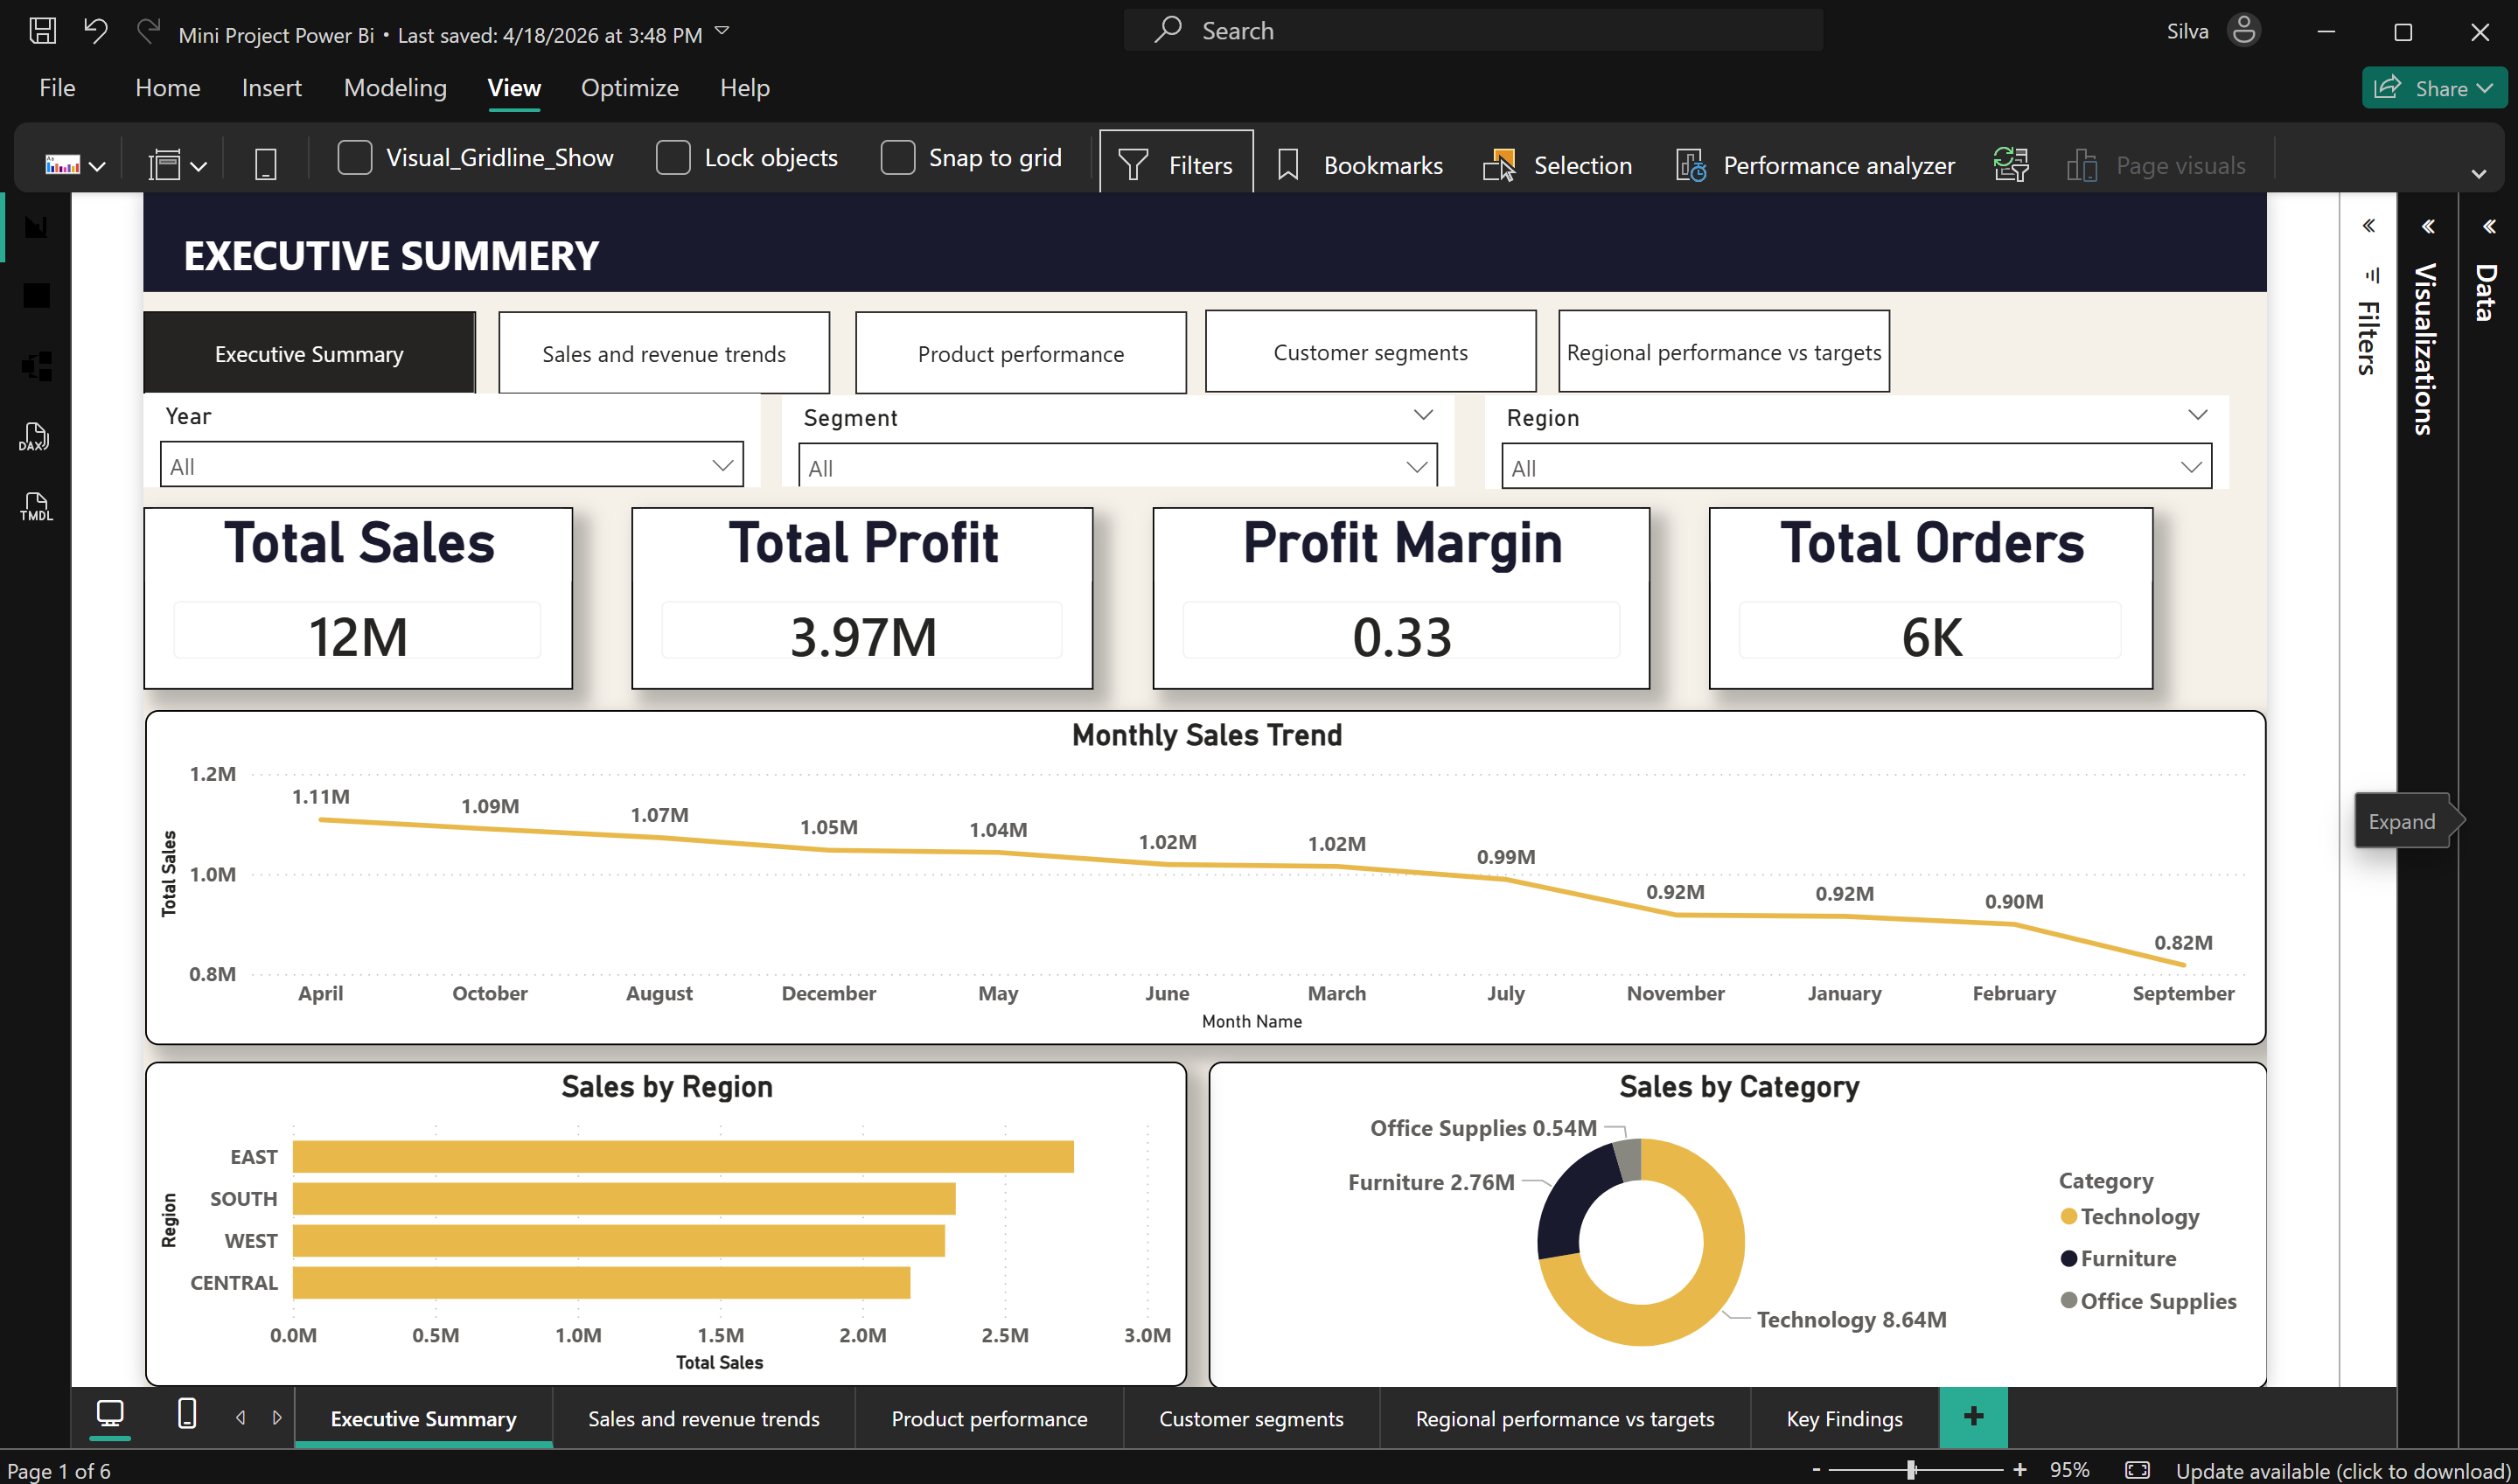

This screenshot's page, from the dashboard's own definition file:
{"tool":"powerbi","page":{"name":"Executive Summary","canvas":[1280,720],"ordinal":0},"visuals":[{"type":"shape","box":[0,0,1280,60],"z":0},{"type":"textbox","box":[0,15.3,298.6,56.7],"z":1000},{"type":"pageNavigator","box":[0,72,200.6,50.5],"z":2000},{"type":"pageNavigator","box":[214.4,72,200.6,50.5],"z":3000},{"type":"pageNavigator","box":[428.7,72,200.6,50.5],"z":4000},{"type":"pageNavigator","box":[640,70.4,200.6,50.5],"z":5000},{"type":"pageNavigator","box":[852.8,70.4,200.6,50.5],"z":6000},{"type":"slicer","fields":{"Values":["Date Table.Year"]},"box":[0,121,372.1,56.7],"z":7000},{"type":"slicer","fields":{"Values":["Customers.Segment"]},"box":[384.3,122.5,405.7,55.1],"z":8000},{"type":"slicer","fields":{"Values":["Customers.Region"]},"box":[808.4,122.5,448.6,56.7],"z":9000},{"type":"cardVisual","title":"Total Sales","fields":{"Data":["Key Measures.Total Sales"]},"box":[0,189.9,258.8,110.2],"z":10000},{"type":"cardVisual","title":"Total Profit","fields":{"Data":["Key Measures.Total Profit"]},"box":[294,189.9,278.7,110.2],"z":11000},{"type":"cardVisual","title":"Total Orders","fields":{"Data":["Key Measures.Total Orders"]},"box":[943.2,189.9,267.9,110.2],"z":12000},{"type":"cardVisual","title":"Profit Margin","fields":{"Data":["Key Measures.Profit Margin %"]},"box":[607.8,189.9,300.1,110.2],"z":13000},{"type":"lineChart","title":"Monthly Sales Trend","fields":{"Category":["Date Table.Year","Date Table.Month Name"],"Y":["Key Measures.Total Sales"]},"box":[1.5,312.3,1278.5,202.1],"z":14000},{"type":"donutChart","title":"Sales by Category","fields":{"Y":["Key Measures.Total Sales"],"Category":["Products.Category"]},"box":[641.5,523.6,638.5,197.5],"z":15000},{"type":"clusteredBarChart","title":" Sales by Region","fields":{"Category":["Customers.Region"],"Y":["Key Measures.Total Sales"]},"box":[1.5,523.6,627.8,196],"z":16000}]}

Visuals, with their boxes on the page's 1280x720 design canvas (x1, y1, x2, y2). These are canvas units, not pixel positions in the 2518x1484 screenshot, which may show the page scaled, cropped or inside an application window:
shape: (x1=0, y1=0, x2=1280, y2=60)
textbox: (x1=0, y1=15, x2=299, y2=72)
pageNavigator: (x1=0, y1=72, x2=201, y2=122)
pageNavigator: (x1=214, y1=72, x2=415, y2=122)
pageNavigator: (x1=429, y1=72, x2=629, y2=122)
pageNavigator: (x1=640, y1=70, x2=841, y2=121)
pageNavigator: (x1=853, y1=70, x2=1053, y2=121)
slicer - Date Table.Year: (x1=0, y1=121, x2=372, y2=178)
slicer - Customers.Segment: (x1=384, y1=122, x2=790, y2=178)
slicer - Customers.Region: (x1=808, y1=122, x2=1257, y2=179)
"Total Sales" cardVisual: (x1=0, y1=190, x2=259, y2=300)
"Total Profit" cardVisual: (x1=294, y1=190, x2=573, y2=300)
"Total Orders" cardVisual: (x1=943, y1=190, x2=1211, y2=300)
"Profit Margin" cardVisual: (x1=608, y1=190, x2=908, y2=300)
"Monthly Sales Trend" lineChart: (x1=2, y1=312, x2=1280, y2=514)
"Sales by Category" donutChart: (x1=642, y1=524, x2=1280, y2=721)
" Sales by Region" clusteredBarChart: (x1=2, y1=524, x2=629, y2=720)
